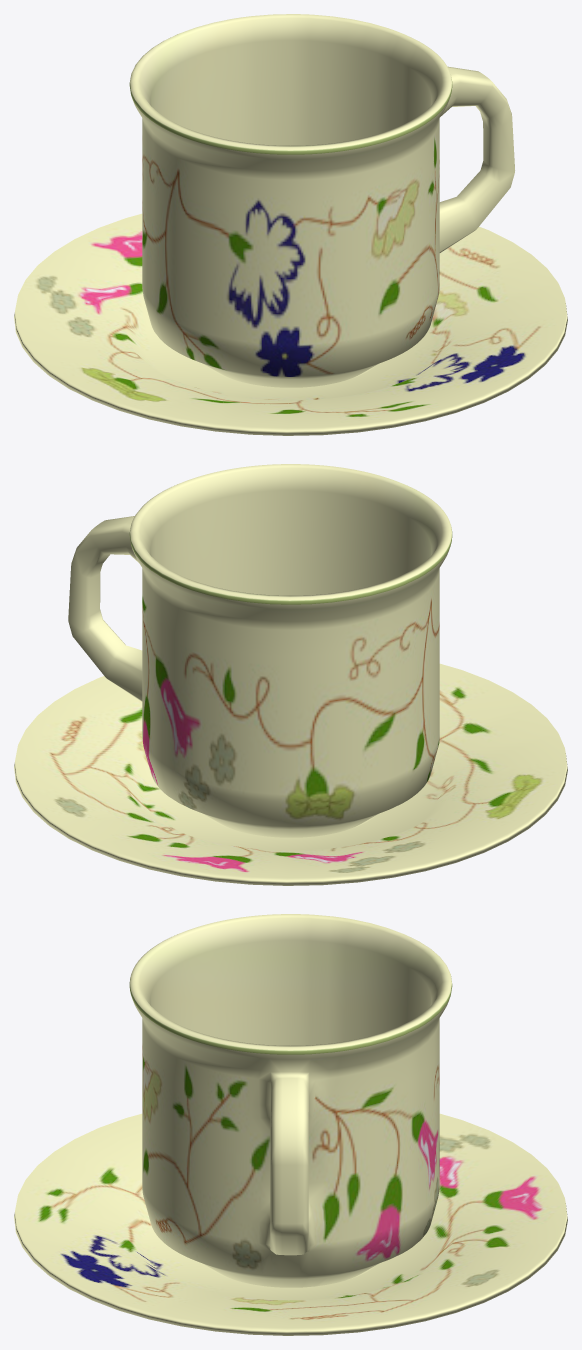
File: cup.fbx
3 views of the same model, one above another, from view 1: azimuth 30°, elevation 25°; view 2: azimuth 150°, elevation 25°; view 3: azimuth 270°, elevation 25° (orthographic).
Visible parts, largest first — view 1: cup:Mesh; view 2: cup:Mesh; view 3: cup:Mesh.
Boxes of the visible parts, left/top/right/bottom form: cup:Mesh: left=14, top=14, right=567, bottom=435; cup:Mesh: left=14, top=464, right=567, bottom=885; cup:Mesh: left=14, top=914, right=567, bottom=1335.
Bounding box in the file's own units: 11.92 × 6.78 × 11.92.
2 materials, 2 textured.
